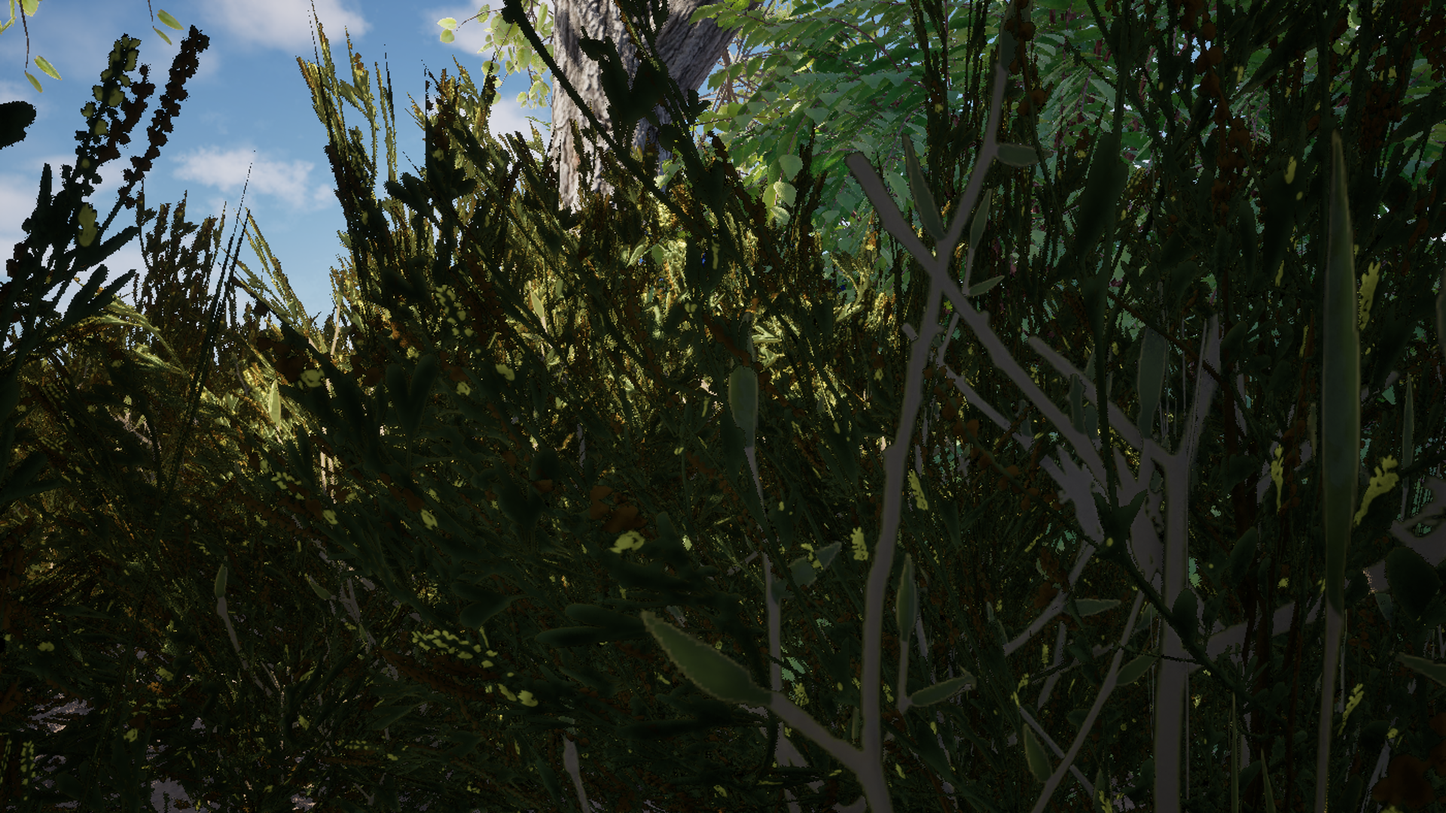Piplup: (365, 0, 1116, 813)
